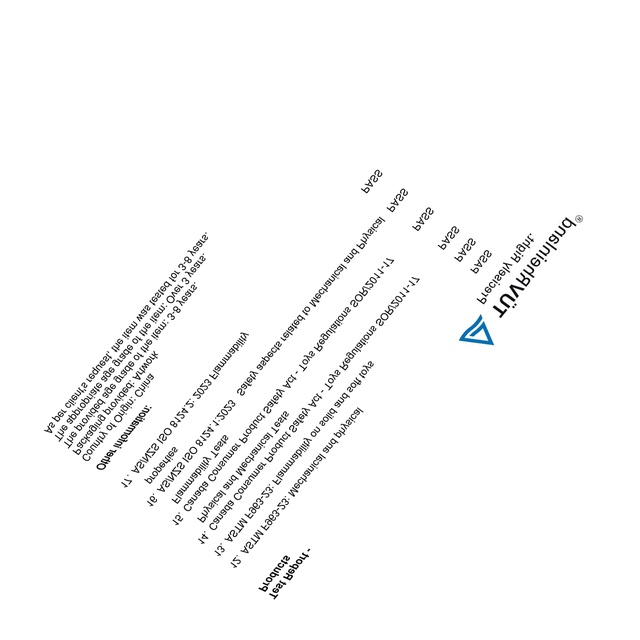tuv_rheinland: (456, 212, 584, 348)
